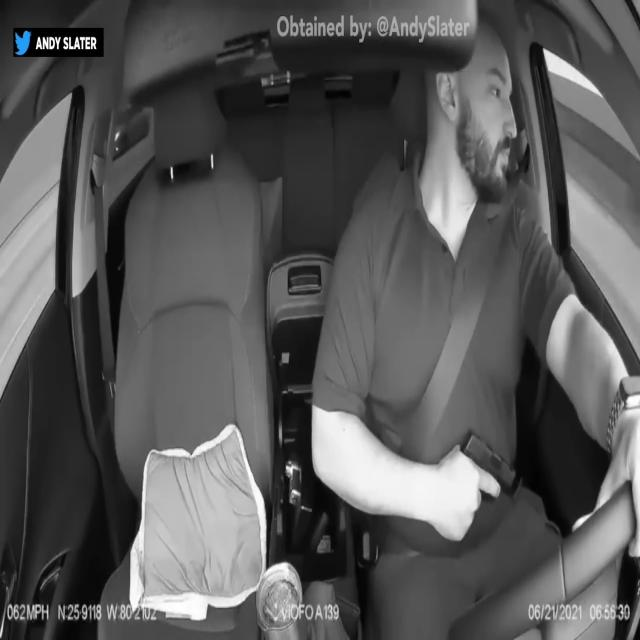senjata_api: (461, 430, 517, 499)
